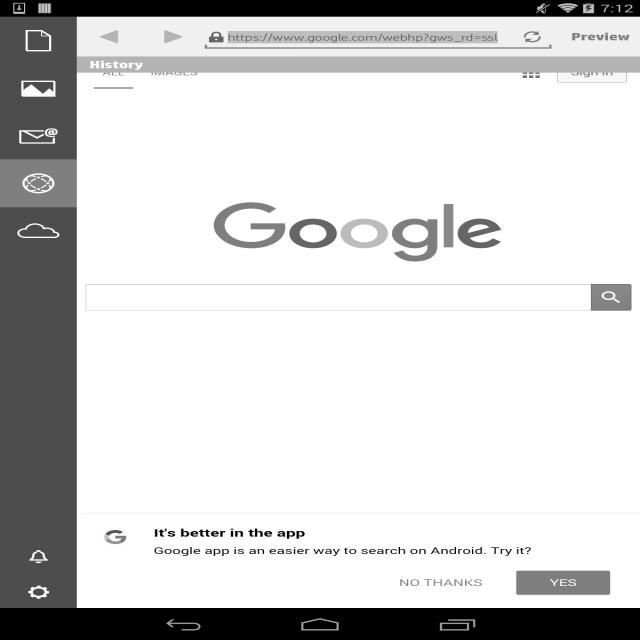Button: (390, 570, 493, 594), (516, 570, 610, 594), (591, 284, 631, 311), (228, 621, 310, 633), (515, 62, 547, 82)
EditText: (205, 31, 551, 51)
ImageButton: (77, 22, 141, 50), (141, 22, 205, 50), (513, 22, 552, 50)
ImageView: (0, 16, 77, 64), (0, 64, 77, 112), (0, 160, 77, 208), (0, 207, 77, 254), (0, 113, 77, 159), (13, 540, 64, 572), (13, 576, 64, 608)
Spinner: (86, 288, 561, 305)
TextView: (77, 56, 640, 72), (560, 16, 640, 56)
